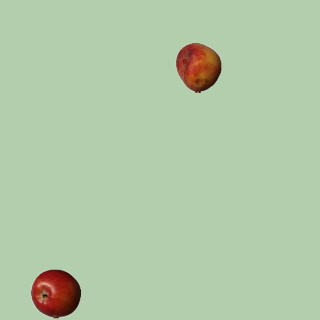Apple Braeburn: (30, 268, 80, 318)
Peach: (173, 42, 223, 92)
